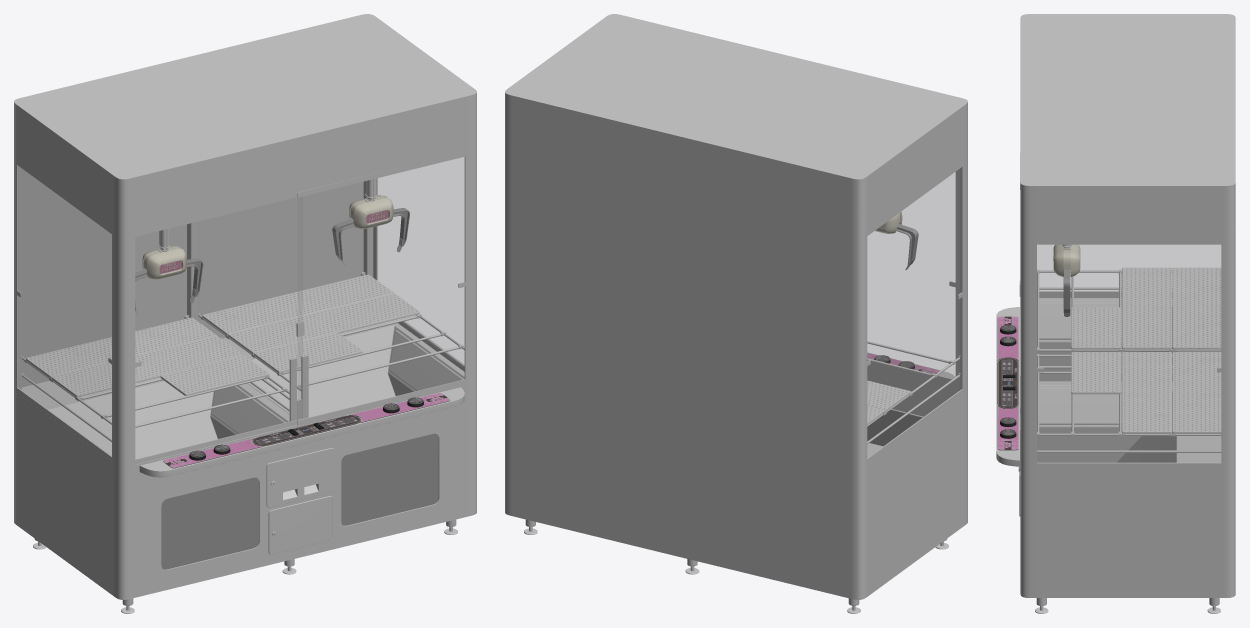
The model's file is CraneMachine_01.FBX.
3 views of the same model, side by side, from view 1: azimuth 30°, elevation 25°; view 2: azimuth 150°, elevation 25°; view 3: azimuth 270°, elevation 25° (orthographic). The views are drawn at different scales.
Parts seen in each view (by area): view 1: CraneMachine_01; view 2: CraneMachine_01; view 3: CraneMachine_01.
Boxes of the visible parts, <box> form: CraneMachine_01: <box>14,14,476,613</box>; CraneMachine_01: <box>505,14,967,613</box>; CraneMachine_01: <box>996,14,1235,613</box>.
Bounding box in the file's own units: 170 × 200 × 100.
